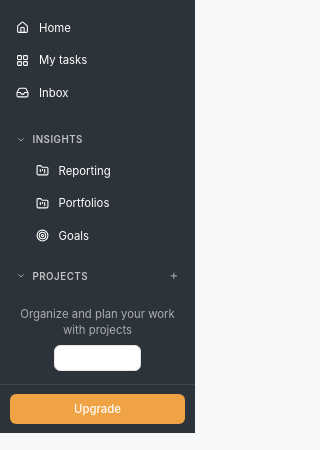
it: AsanaSidebar › renders projects section with collapsible toggle
Expected: the text "Organize and plan your work with projects" is shown, [16, 306, 179, 338]
Expected: the button with test id "new-project-button" is shown, [54, 344, 141, 370]
// Click to collapse
Click the button with test id "projects-toggle".
click(98, 276)  # box [6, 263, 188, 289]
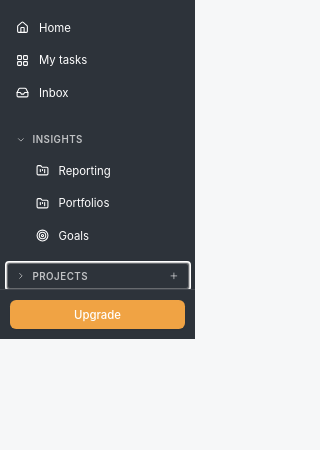
Expected: the text "Organize and plan your work with projects" is gone
